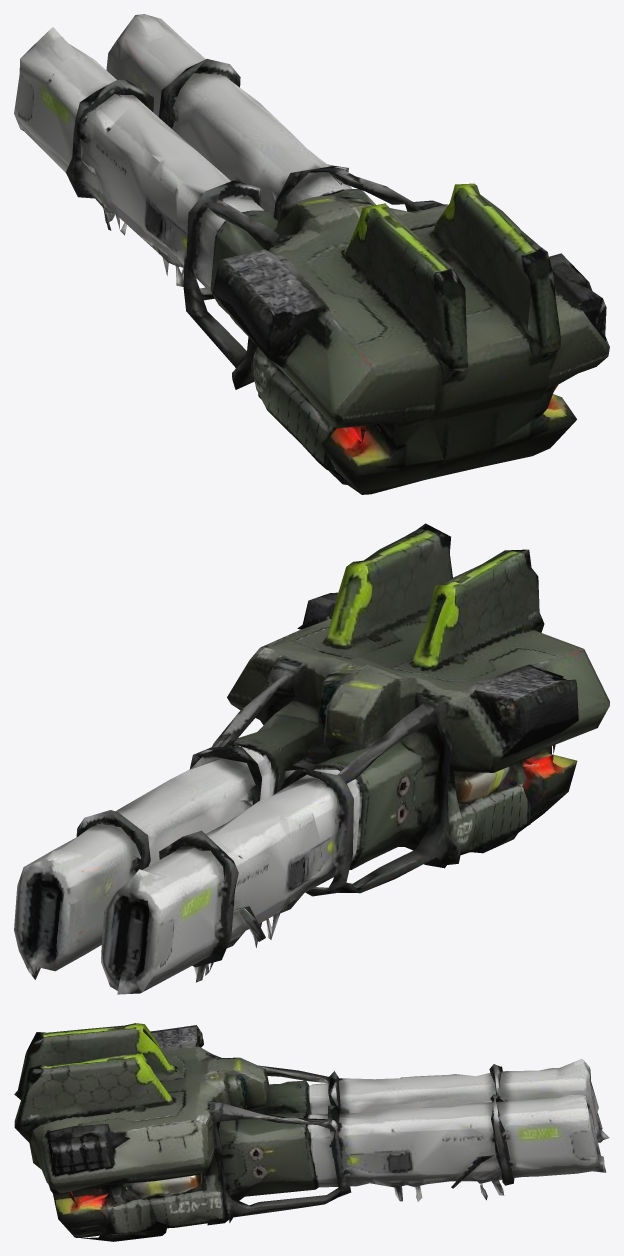
The model's file is wpn_mech_arm_cannon.glb.
The picture shows the model from 3 angles, top to bottom: view 1: azimuth 30°, elevation 25°; view 2: azimuth 150°, elevation 25°; view 3: azimuth 270°, elevation 25°; orthographic projection. The views are drawn at different scales.
Parts seen in each view (by area): view 1: wpn_mech_arm_cannon; view 2: wpn_mech_arm_cannon; view 3: wpn_mech_arm_cannon.
Boxes of the visible parts, x1,y1,x2,y2 form: wpn_mech_arm_cannon: [14, 14, 609, 494]; wpn_mech_arm_cannon: [14, 523, 609, 994]; wpn_mech_arm_cannon: [14, 1023, 609, 1241].
Size of the model in its own units: 0.411 by 0.3332 by 1.01.
1 material, 1 textured.
